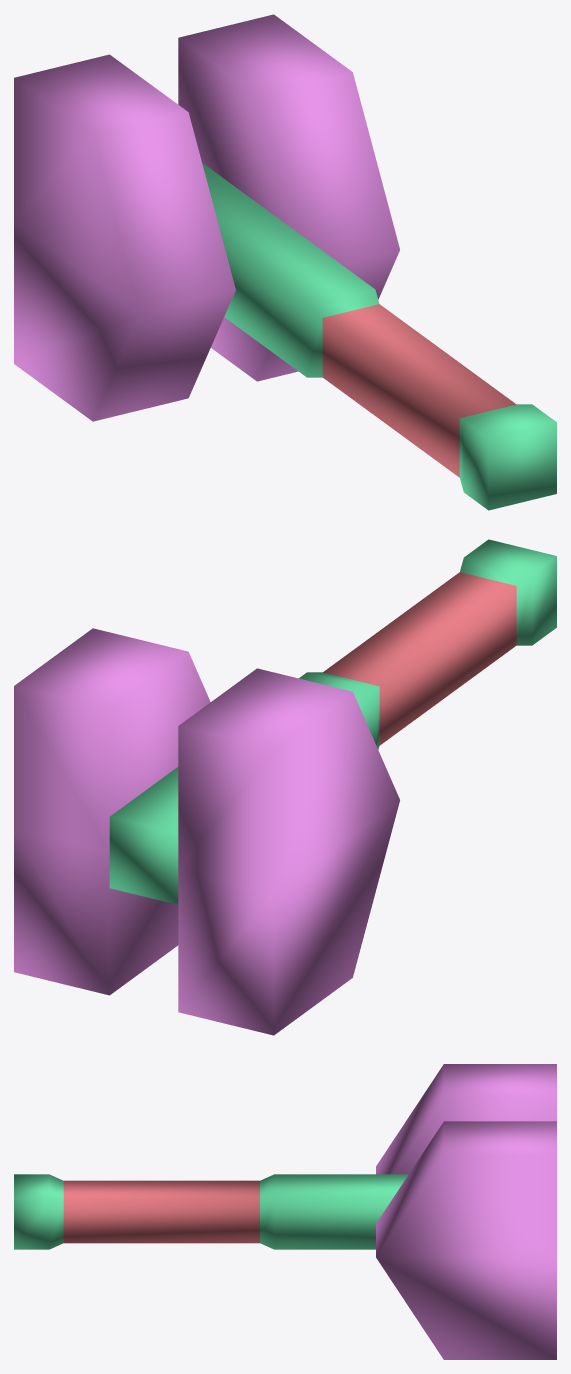
Rendered from lever.glb.
3 renders of one model, top to bottom at view 1: azimuth 30°, elevation 25°; view 2: azimuth 150°, elevation 25°; view 3: azimuth 270°, elevation 25°, orthographic. The views are drawn at different scales.
Visible parts, largest first — view 1: Cube.001, Cube; view 2: Cube.001, Cube; view 3: Cube.001, Cube.
Part boxes in pixels (x1=…): Cube.001: x1=14, y1=14, x2=399, y2=421; Cube: x1=202, y1=163, x2=556, y2=510; Cube.001: x1=14, y1=628, x2=399, y2=1035; Cube: x1=109, y1=539, x2=556, y2=904; Cube.001: x1=376, y1=1064, x2=556, y2=1359; Cube: x1=14, y1=1174, x2=408, y2=1249.
Size of the model in its own units: 0.1901 by 0.2 by 0.48.
